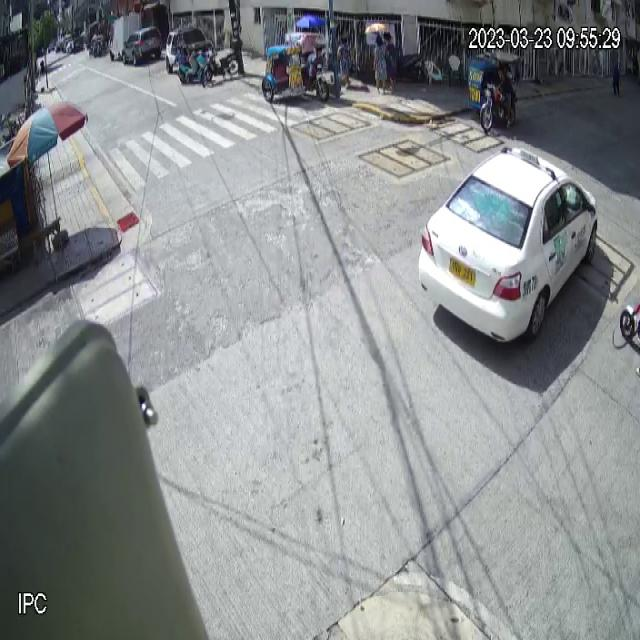Car: (418, 144, 599, 348)
Tricycle: (261, 31, 329, 103)
